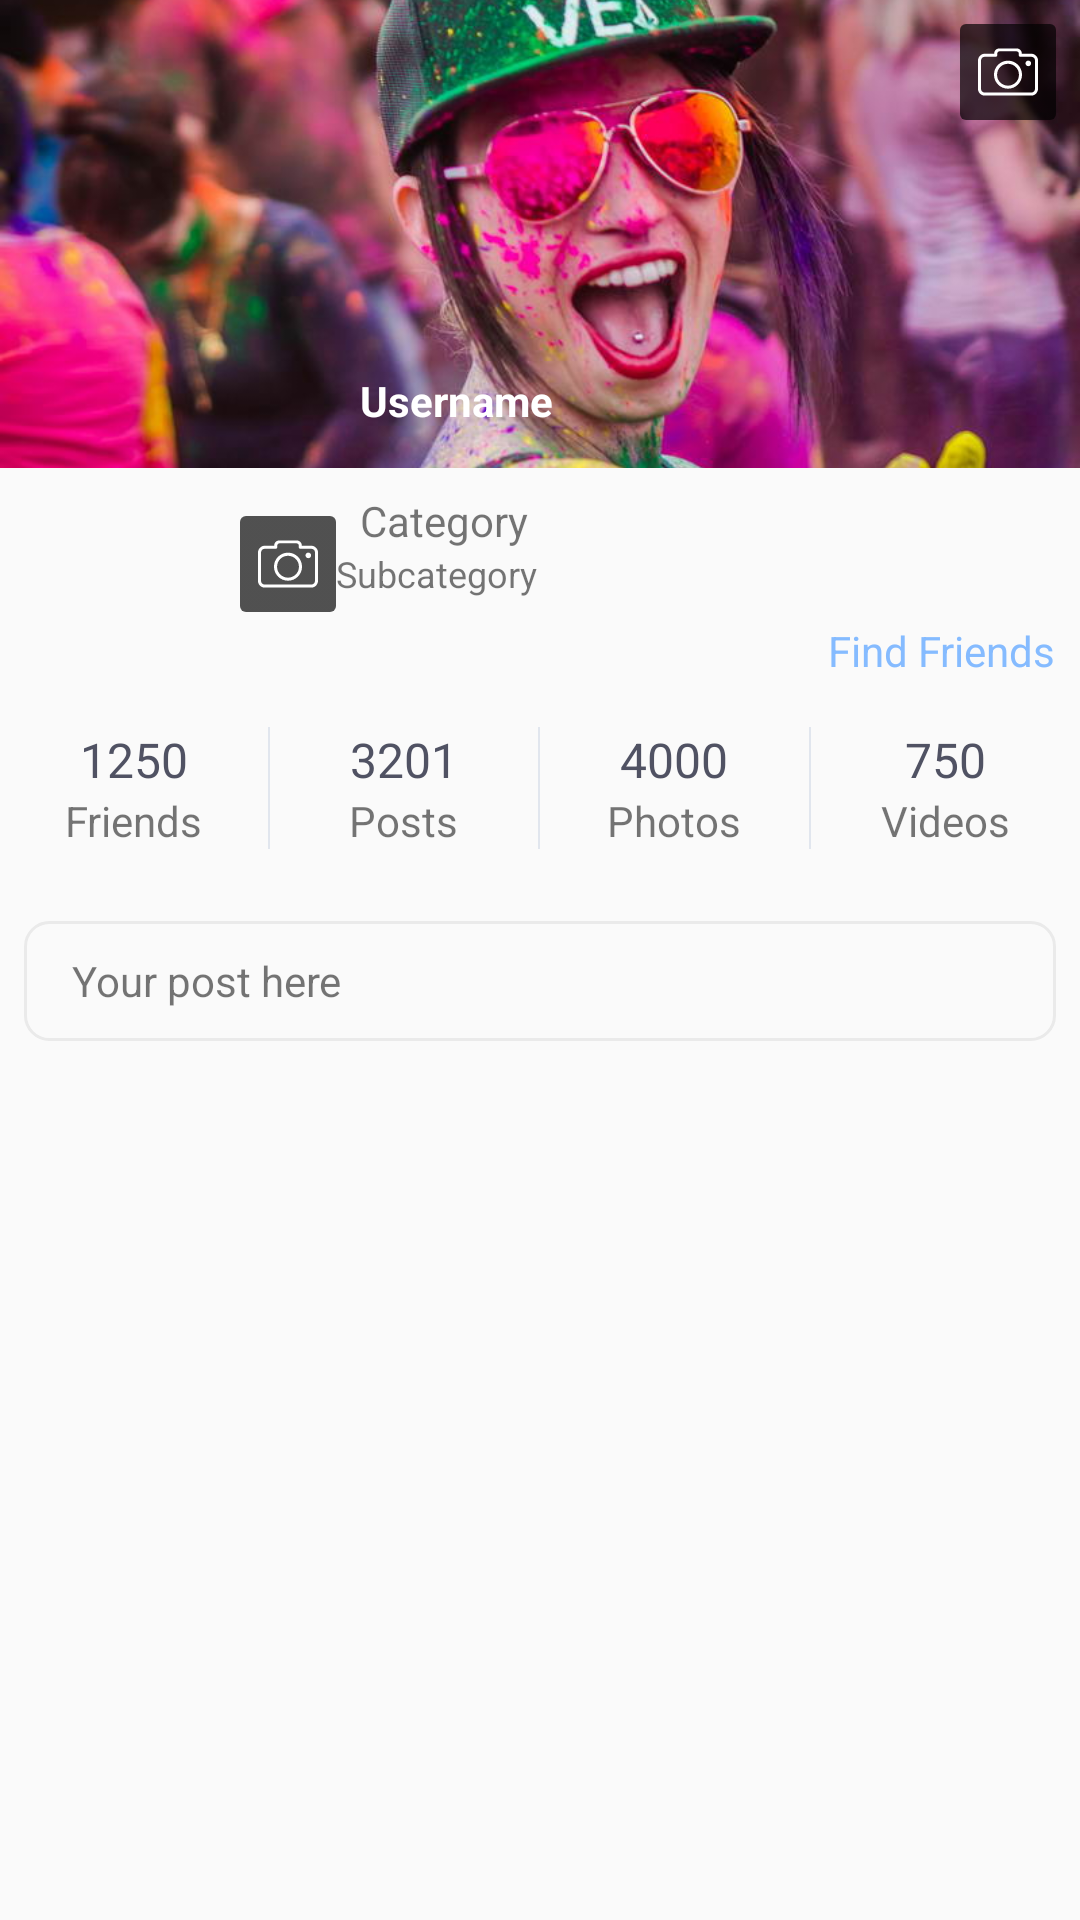

Icon click points for this 1080x1920 phone screenshot, format (x=x, y=y):
photo: (x=1008, y=72), (x=288, y=564)
